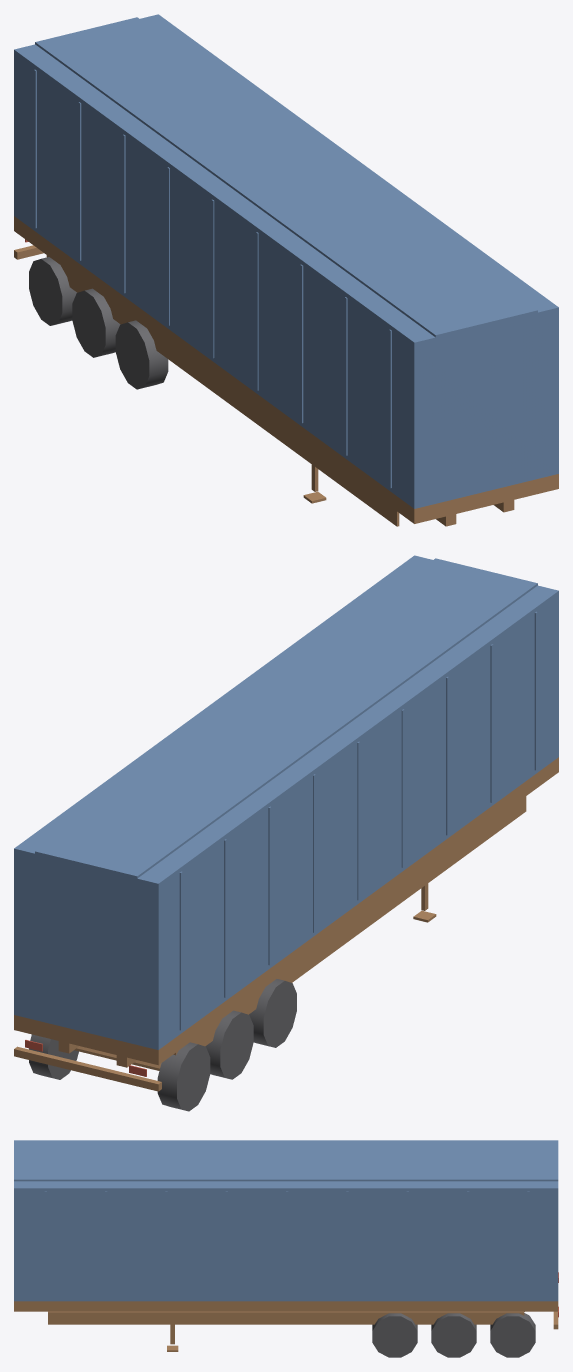
Rendered from truck_trailer.glb.
3 views of the same model, one above another, from view 1: azimuth 30°, elevation 25°; view 2: azimuth 150°, elevation 25°; view 3: azimuth 270°, elevation 25° (orthographic). The views are drawn at different scales.
Visible parts, largest first — view 1: tarp, truck_trailer, wheels; view 2: tarp, truck_trailer, wheels; view 3: tarp, truck_trailer, wheels.
Boxes of the visible parts, x1,y1,x2,y2 form: tarp: (14, 14, 558, 508); truck_trailer: (14, 216, 558, 526); wheels: (29, 257, 168, 389); tarp: (14, 555, 558, 1049); truck_trailer: (14, 757, 558, 1091); wheels: (29, 979, 296, 1111); tarp: (14, 1140, 558, 1301); truck_trailer: (14, 1301, 558, 1351); wheels: (372, 1311, 535, 1357).
Size of the model in its own units: 2.56 by 4.14 by 12.02.
